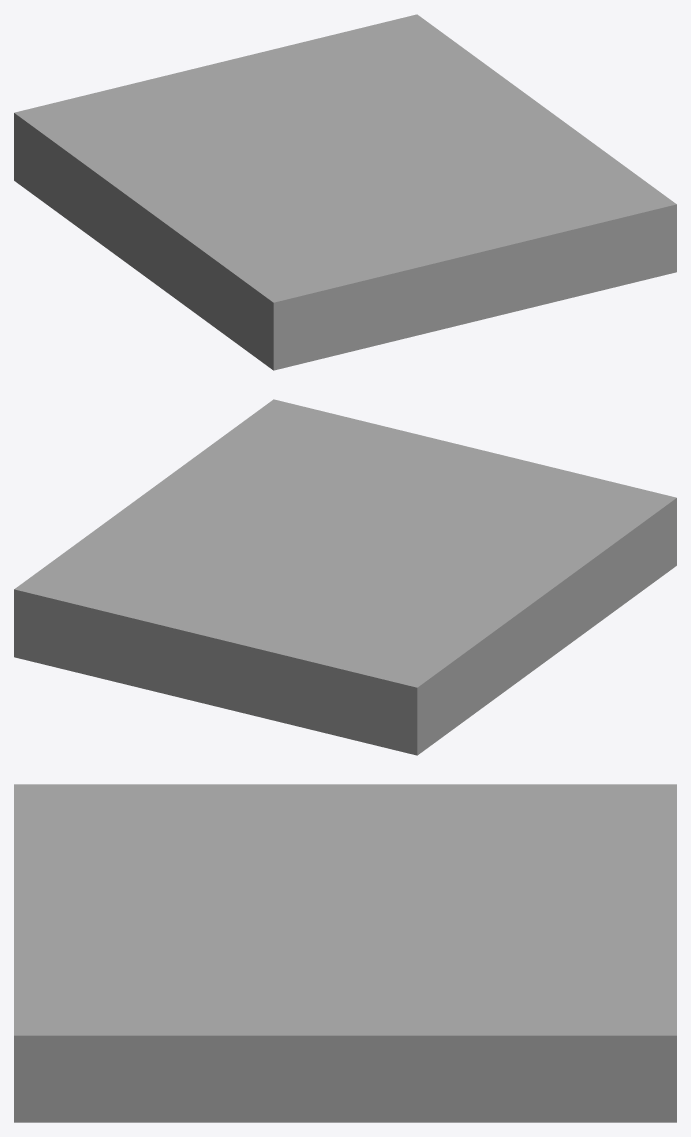
The model's file is Playground_roof.fbx.
The picture shows the model from 3 angles, top to bottom: view 1: azimuth 30°, elevation 25°; view 2: azimuth 150°, elevation 25°; view 3: azimuth 270°, elevation 25°; orthographic projection. The views are drawn at different scales.
Visible parts, largest first — view 1: Playground_roof; view 2: Playground_roof; view 3: Playground_roof.
Part boxes in pixels (x1,y1,x2,y2): Playground_roof: (14, 14, 676, 370); Playground_roof: (14, 399, 676, 755); Playground_roof: (14, 784, 676, 1122).
Bounding box in the file's own units: 34.5 × 5.55 × 38.46.
